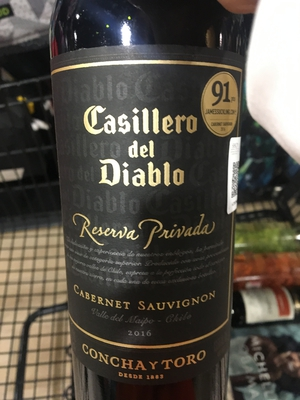casillero del diablo reserva privada cabernet sauvignon: (39, 16, 260, 400)
